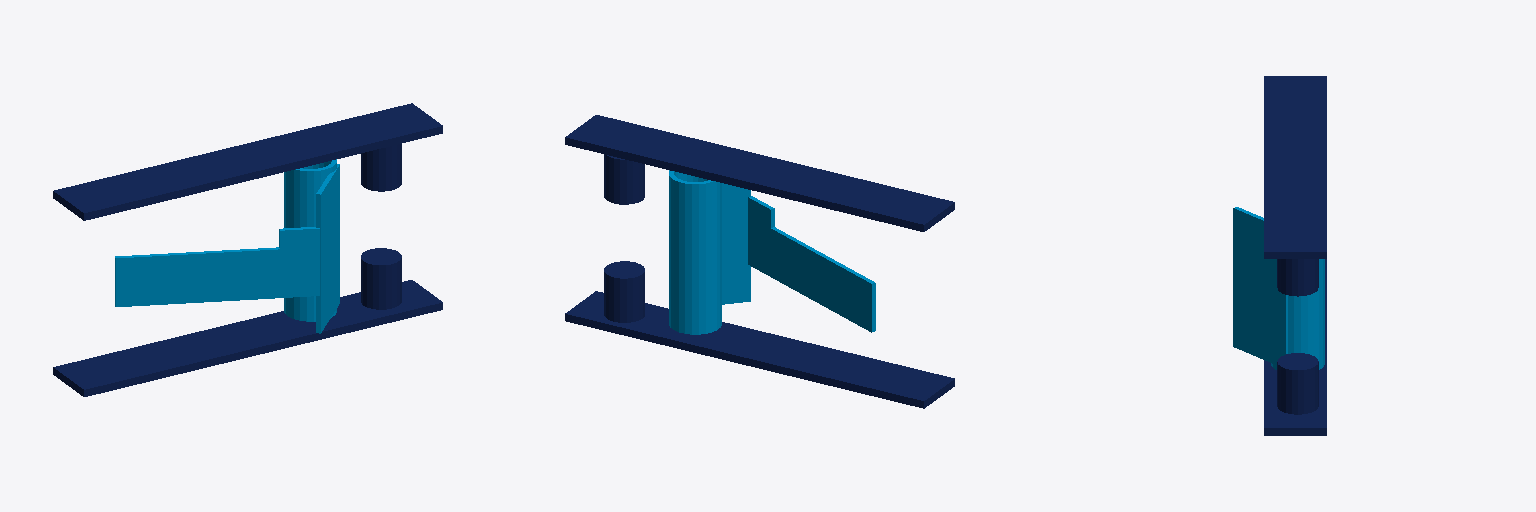
Rendered from tinker.obj.
3 views of the same model, side by side, from view 1: azimuth 30°, elevation 25°; view 2: azimuth 150°, elevation 25°; view 3: azimuth 270°, elevation 25° (orthographic).
Parts seen in each view (by area): view 1: obj_0; view 2: obj_0; view 3: obj_0.
Boxes of the visible parts, x1=… form: obj_0: x1=53, y1=103, x2=442, y2=396; obj_0: x1=565, y1=115, x2=954, y2=408; obj_0: x1=1233, y1=76, x2=1326, y2=435.
Size of the model in its own units: 100 by 48.95 by 22.5.